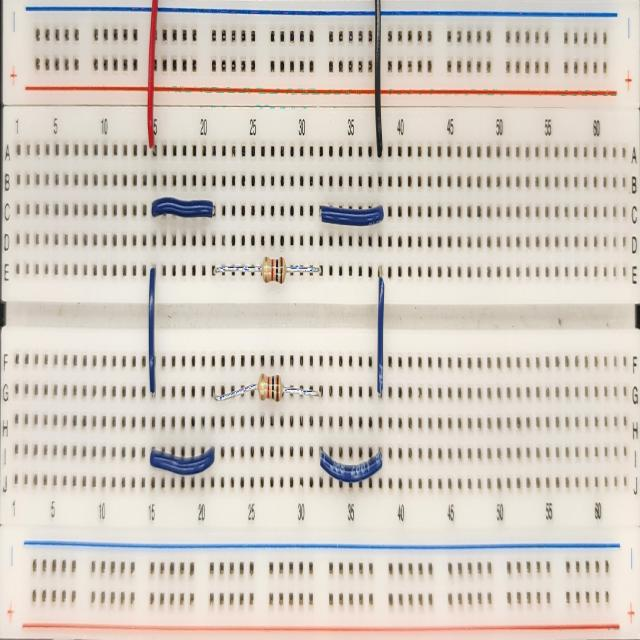capacitor: (260, 248, 288, 293), (258, 367, 285, 407)
